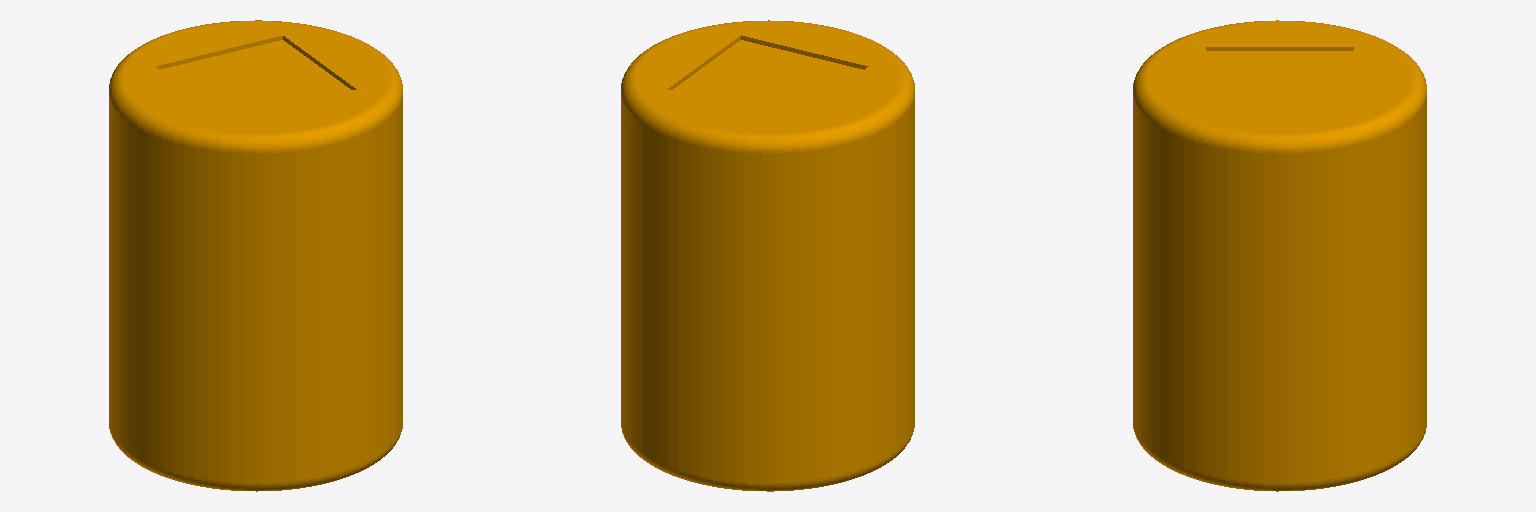
The robot description file, URDF, robot "object":
<?xml version="1.0"?>
<robot name="object">
  <link name="object">
    <visual>
      <origin xyz="0 0 0"/>
      <geometry>
        <mesh filename="meshes/small_cylinder.obj" scale="1 1 1"/>
      </geometry>
    </visual>
    <collision>
      <origin xyz="0 0 0"/>
      <geometry>
        <cylinder radius="0.03" length="0.08"/>
      </geometry>
    </collision>
    <inertial>
      <mass value="0.224385"/>
      <density value="992.0"/>
      <inertia ixx="0.000170158625" ixy="0.0" ixz="0.0" iyy="0.000170158625" iyz="0.0" izz="0.00010097325"/>
    </inertial>
  </link>
</robot>

--- Facts derived from the render (not from the file) ---
3 views of the same robot in one strip: view 1: azimuth 30°, elevation 25°; view 2: azimuth 150°, elevation 25°; view 3: azimuth 270°, elevation 25° (orthographic).
Model object with 1 links and 0 joints (none), rooted at object, posed all joints at 0.
Visible links, largest first — view 1: object; view 2: object; view 3: object.
Link boxes in pixels (left/top/right/bottom): object: left=109, top=20, right=402, bottom=491; object: left=621, top=20, right=914, bottom=491; object: left=1133, top=20, right=1426, bottom=491.
Bounding box of the posed robot: 0.06 × 0.06 × 0.08 m (x, y, z).
Meshes: 1 distinct files referenced, 1 mesh visuals loaded (1 OBJ).
